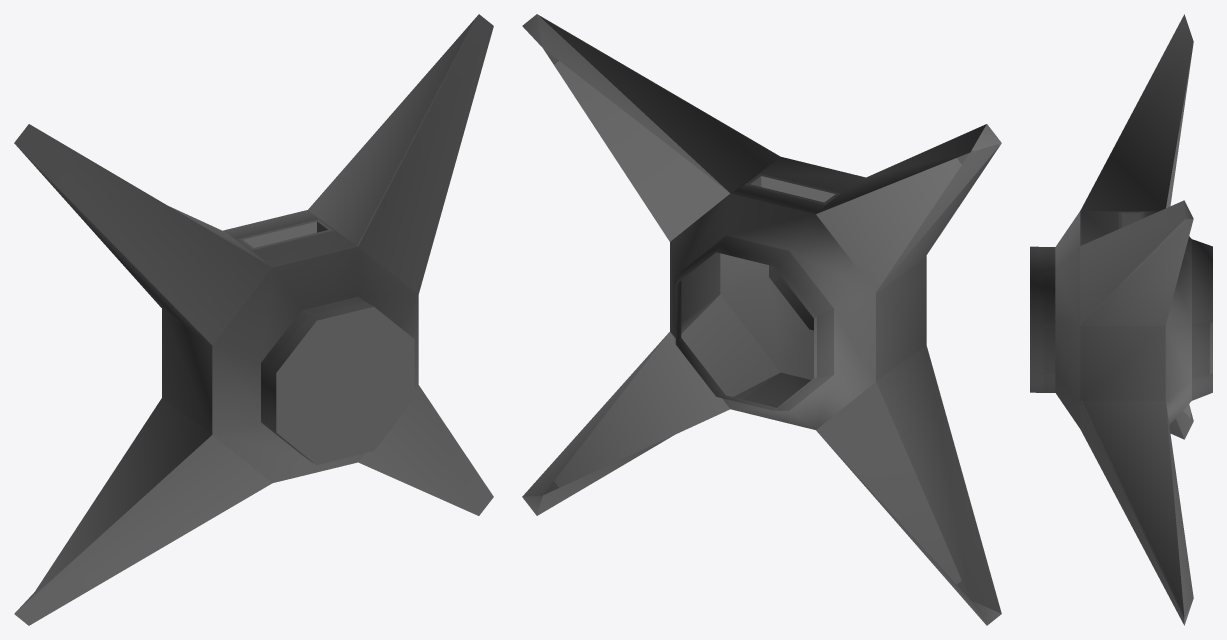
Rendered from stat_hangar1.glb.
The picture shows the model from 3 angles, left to right: view 1: azimuth 30°, elevation 25°; view 2: azimuth 150°, elevation 25°; view 3: azimuth 270°, elevation 25°; orthographic projection. The views are drawn at different scales.
Parts seen in each view (by area): view 1: group_19; view 2: group_19; view 3: group_19.
Part boxes in pixels (<box>): group_19: <box>14,14,493,625</box>; group_19: <box>522,14,1001,625</box>; group_19: <box>1030,14,1212,625</box>.
Size of the model in its own units: 26295 by 26295 by 10239.
2 materials, 2 textured.
